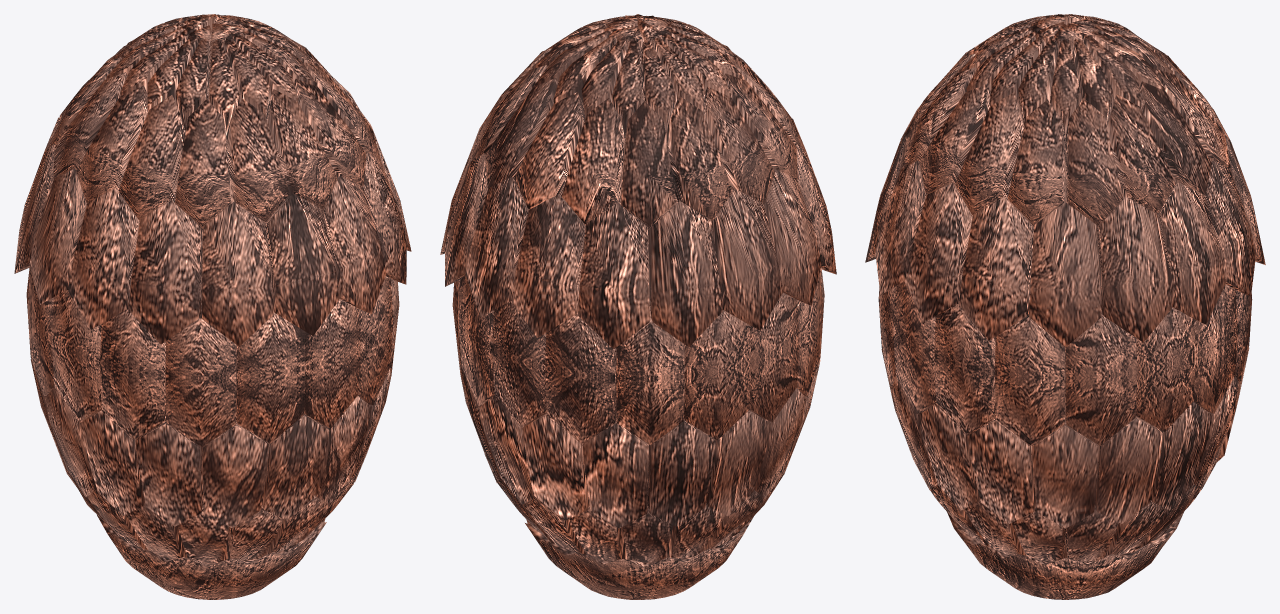
The picture shows the model from 3 angles, left to right: view 1: azimuth 30°, elevation 25°; view 2: azimuth 150°, elevation 25°; view 3: azimuth 270°, elevation 25°; orthographic projection.
Visible parts, largest first — view 1: Dragon Egg_Dragon Egg_0; view 2: Dragon Egg_Dragon Egg_0; view 3: Dragon Egg_Dragon Egg_0.
Boxes of the visible parts, x1,y1,x2,y2 form: Dragon Egg_Dragon Egg_0: (14,14,411,599); Dragon Egg_Dragon Egg_0: (440,14,836,599); Dragon Egg_Dragon Egg_0: (865,14,1265,599).
Bounding box in the file's own units: 3.84 × 6.1 × 3.84.
Materials: 1 (1 with a texture image).
